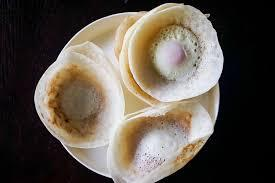Hoppers: (110, 1, 230, 107), (31, 37, 133, 160)
